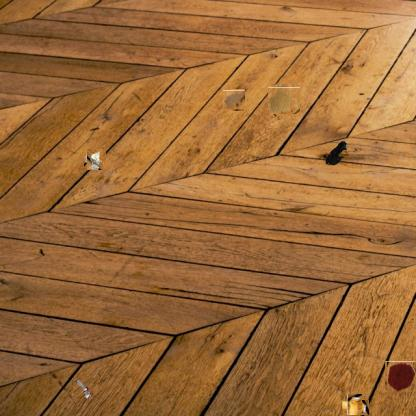dirty: (323, 138, 351, 168), (73, 377, 93, 399), (344, 396, 365, 416), (224, 90, 245, 110), (86, 150, 105, 168)
liquid: (386, 361, 416, 392), (270, 86, 299, 115)
